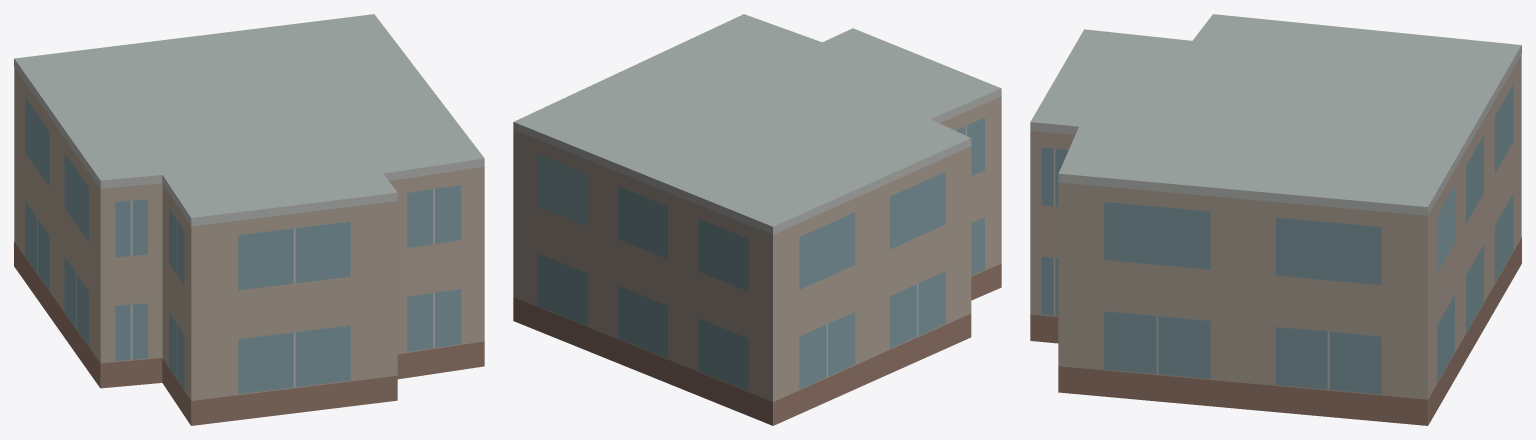
The model's file is survey-upis-32711670.glb.
3 views of the same model, side by side, from view 1: azimuth 30°, elevation 25°; view 2: azimuth 150°, elevation 25°; view 3: azimuth 270°, elevation 25° (orthographic). The views are drawn at different scales.
Visible parts, largest first — view 1: survey-upis-32711670.tmp; view 2: survey-upis-32711670.tmp; view 3: survey-upis-32711670.tmp.
Boxes of the visible parts, x1=… form: survey-upis-32711670.tmp: x1=14, y1=14, x2=484, y2=425; survey-upis-32711670.tmp: x1=513, y1=14, x2=1001, y2=425; survey-upis-32711670.tmp: x1=1030, y1=14, x2=1521, y2=425.
Bounding box in the file's own units: 11.56 × 6.1 × 12.43.
